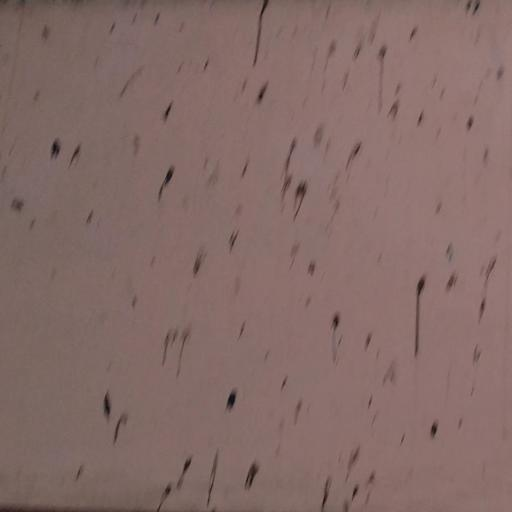stain: (15, 16, 512, 512)
